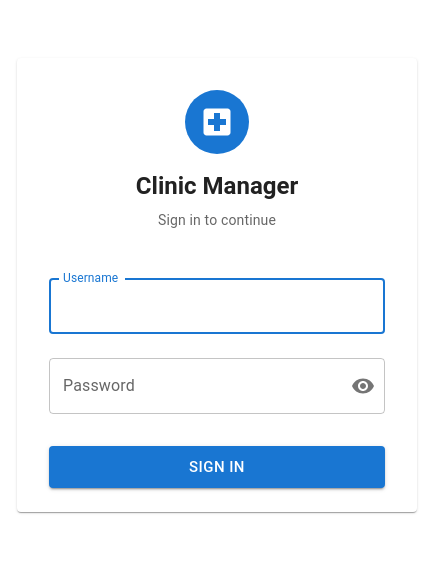
Test case: Login Component › Form Validation › should show error when both fields are empty
Click the button "Sign In" at [217, 467], box [49, 446, 385, 488]
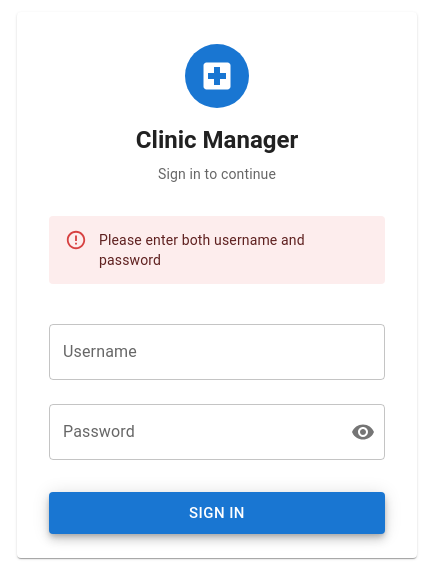
Expected: the text "Please enter both username and password" is shown, [99, 232, 305, 268]
